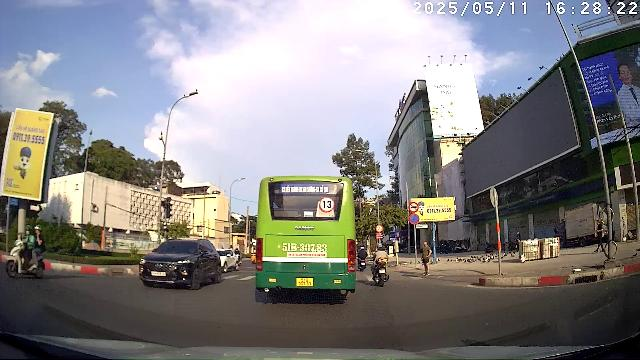131a-cam-do-xe: (408, 214, 420, 225)
